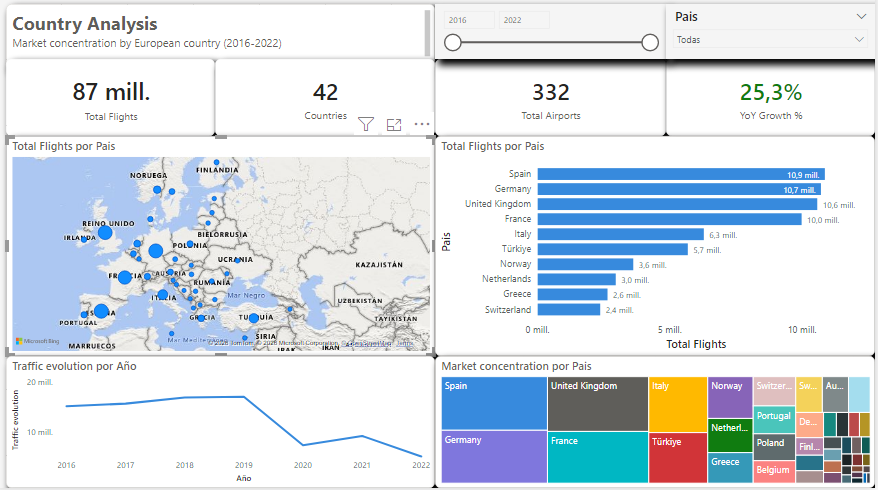

This screenshot's page, from the dashboard's own definition file:
{"tool":"powerbi","page":{"name":"Country Analysis","canvas":[1280,720],"ordinal":1},"visuals":[{"type":"textbox","box":[16,16,624,96],"z":0},{"type":"card","fields":{"Values":["Medidas.Total Flights"]},"box":[16,96,304,112],"z":1000},{"type":"card","fields":{"Values":["Medidas.Total Countries"]},"box":[320,96,320,112],"z":2000},{"type":"card","fields":{"Values":["Medidas.Total Airports"]},"box":[640,96,336,112],"z":3000},{"type":"card","fields":{"Values":["Medidas.YoY Growth %"]},"box":[976,96,304,112],"z":4000},{"type":"map","fields":{"Category":["Dim_Pais.Pais"],"Size":["Medidas.Total Flights"]},"box":[16,208,624,320],"z":5000},{"type":"barChart","fields":{"Category":["Dim_Pais.Pais"],"Y":["Medidas.Total Flights"]},"box":[640,208,640,320],"z":6000},{"type":"lineChart","fields":{"Category":["Dim_Fecha.Año"],"Y":["Medidas.Total Flights"]},"box":[16,528,624,192],"z":7000},{"type":"treemap","fields":{"Group":["Dim_Pais.Pais"],"Values":["Medidas.Total Flights"]},"box":[640,528,640,192],"z":8000},{"type":"slicer","fields":{"Values":["Dim_Fecha.Año"]},"box":[640,16,336,80],"z":9000},{"type":"slicer","fields":{"Values":["Dim_Pais.Pais"]},"box":[976,16,304,80],"z":10000}]}

Visuals, with their boxes in screenshot pixels (x1, y1, x2, y2), scaled from the page's 1280x720 canvas onto the 878x490 screenshot:
textbox: box(11, 11, 439, 76)
card - Medidas.Total Flights: box(11, 65, 220, 142)
card - Medidas.Total Countries: box(220, 65, 439, 142)
card - Medidas.Total Airports: box(439, 65, 669, 142)
card - Medidas.YoY Growth %: box(669, 65, 877, 142)
map - Dim_Pais.Pais x Medidas.Total Flights: box(11, 142, 439, 359)
barChart - Dim_Pais.Pais x Medidas.Total Flights: box(439, 142, 877, 359)
lineChart - Dim_Fecha.Año x Medidas.Total Flights: box(11, 359, 439, 489)
treemap - Dim_Pais.Pais x Medidas.Total Flights: box(439, 359, 877, 489)
slicer - Dim_Fecha.Año: box(439, 11, 669, 65)
slicer - Dim_Pais.Pais: box(669, 11, 877, 65)
